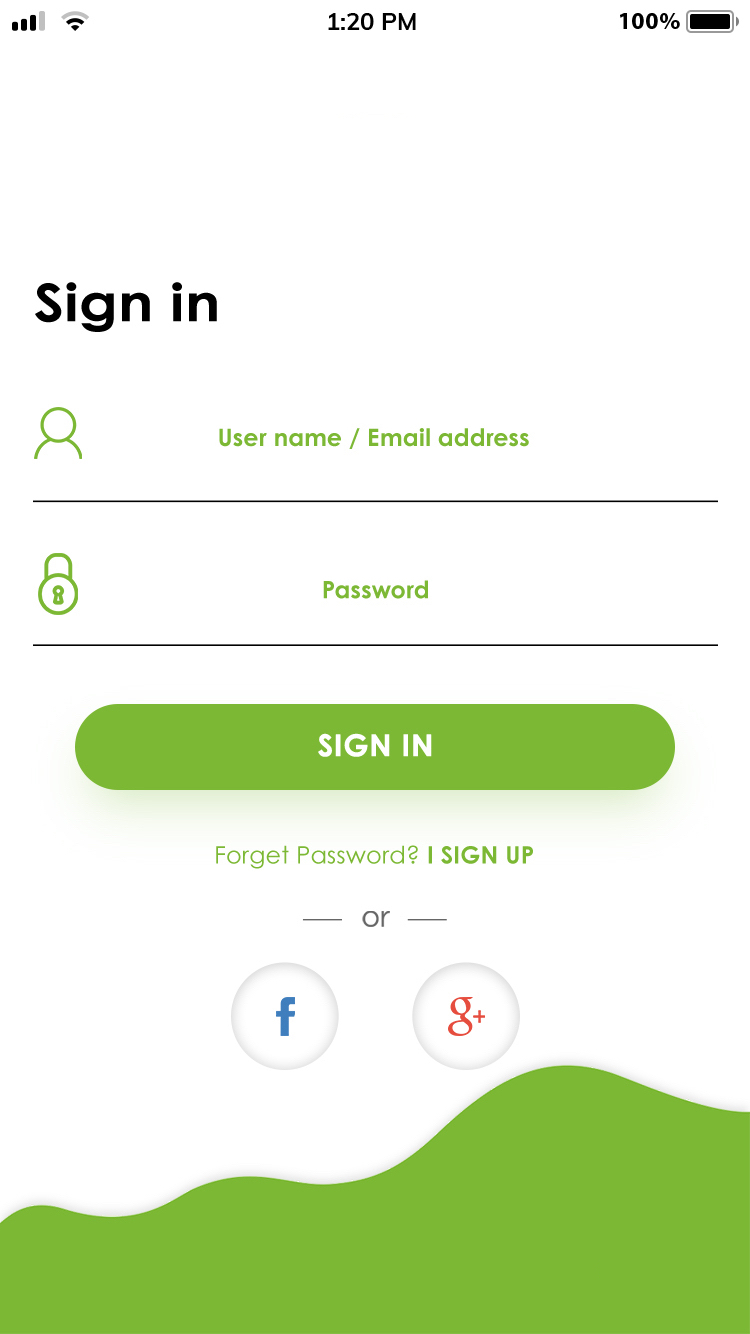EditText: (33, 407, 718, 503), (33, 553, 719, 647)
Icon: (412, 962, 521, 1071), (232, 962, 340, 1071), (34, 407, 84, 460), (38, 553, 79, 616)
Text: (35, 282, 218, 333), (219, 428, 530, 451), (216, 845, 419, 870), (324, 580, 429, 600), (441, 845, 534, 865), (362, 911, 391, 928)
TextButton: (75, 704, 676, 791)
UpperTaskBar: (1, 1, 750, 35)
